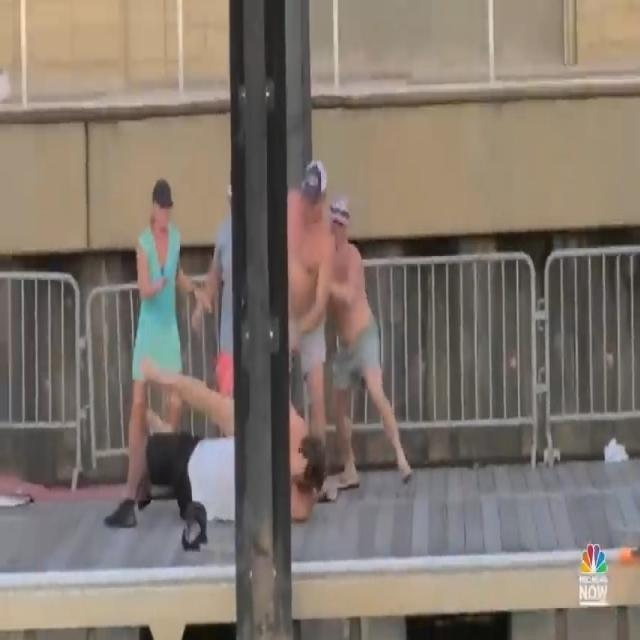fight: (99, 186, 419, 534)
non-fight: (128, 159, 236, 540)
